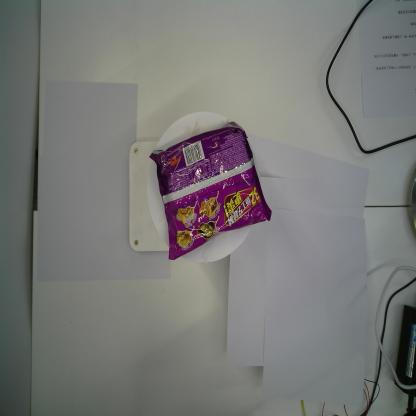Instant Noodles: (148, 119, 273, 262)
